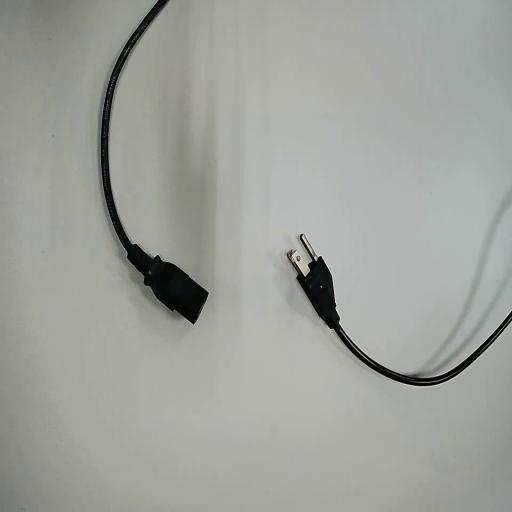wire: (101, 0, 207, 322), (294, 258, 511, 384)
